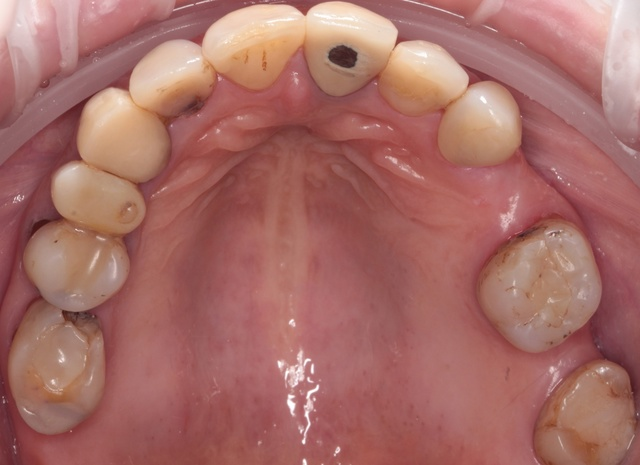UL1M_decay: (471, 220, 603, 356)
UL2M_decay: (527, 355, 639, 465)
ULCI_decay: (303, 4, 397, 95)
ULC_healthy: (434, 76, 524, 170)
ULLI_healthy: (375, 36, 468, 115)
UR1BC_decay: (49, 160, 147, 233)
UR1M_decay: (9, 297, 109, 436)
UR2BC_healthy: (20, 218, 132, 311)
URCI_decay: (205, 5, 303, 91)
URC_healthy: (74, 88, 175, 181)
URLI_decay: (128, 39, 217, 114)
